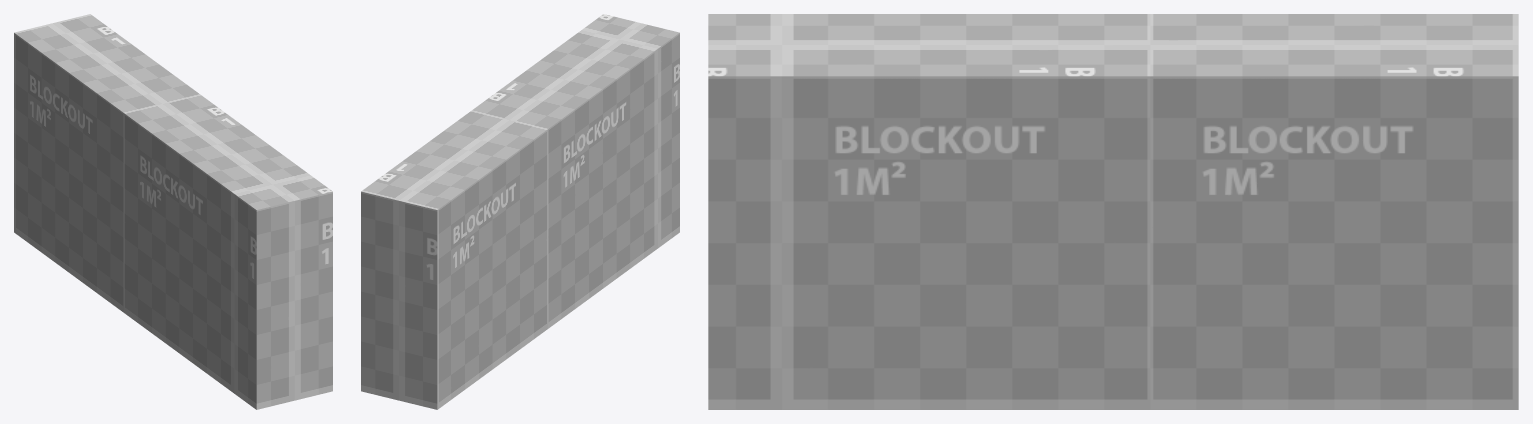
Rendered from BlockoutEdgeFullThinJunctionOneWay.fbx.
3 views of the same model, side by side, from view 1: azimuth 30°, elevation 25°; view 2: azimuth 150°, elevation 25°; view 3: azimuth 270°, elevation 25° (orthographic). The views are drawn at different scales.
Parts seen in each view (by area): view 1: BlockoutEdgeFullThinJunctionOneWay; view 2: BlockoutEdgeFullThinJunctionOneWay; view 3: BlockoutEdgeFullThinJunctionOneWay.
Boxes of the visible parts, x1,y1,x2,y2 form: BlockoutEdgeFullThinJunctionOneWay: (14,14,332,409); BlockoutEdgeFullThinJunctionOneWay: (361,14,679,409); BlockoutEdgeFullThinJunctionOneWay: (708,14,1518,409).
Bounding box in the file's own units: 40 × 100 × 220.
